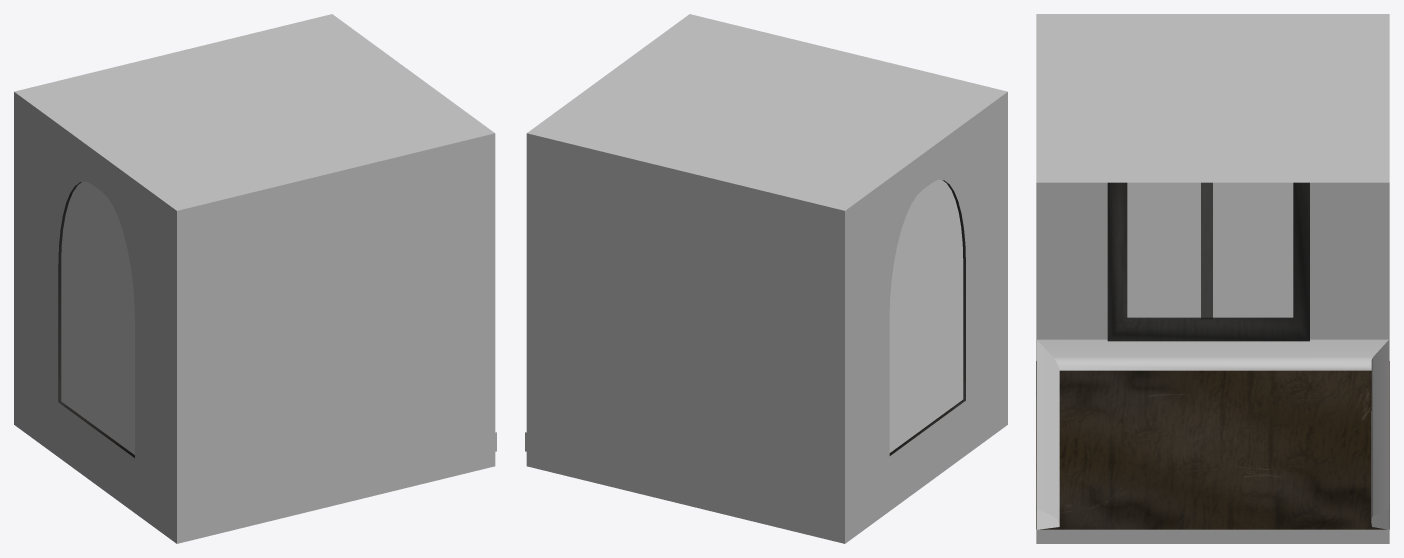
File: roomw_window.fbx
3 renders of one model, left to right at view 1: azimuth 30°, elevation 25°; view 2: azimuth 150°, elevation 25°; view 3: azimuth 270°, elevation 25°, orthographic. The views are drawn at different scales.
Parts seen in each view (by area): view 1: room, window, frame; view 2: room, window, frame; view 3: room, window, shtukahz, frame.
Part boxes in pixels (x1,y1,x2,y2): room: (14,14,495,543); window: (61,181,134,454); frame: (58,182,134,457); room: (526,14,1007,543); window: (889,179,963,452); frame: (889,180,965,455); room: (1036,14,1389,543); window: (1127,182,1293,317); shtukahz: (1037,339,1388,529); frame: (1107,182,1309,341).
Bounding box in the file's own units: 2.8 × 2.78 × 2.46.
